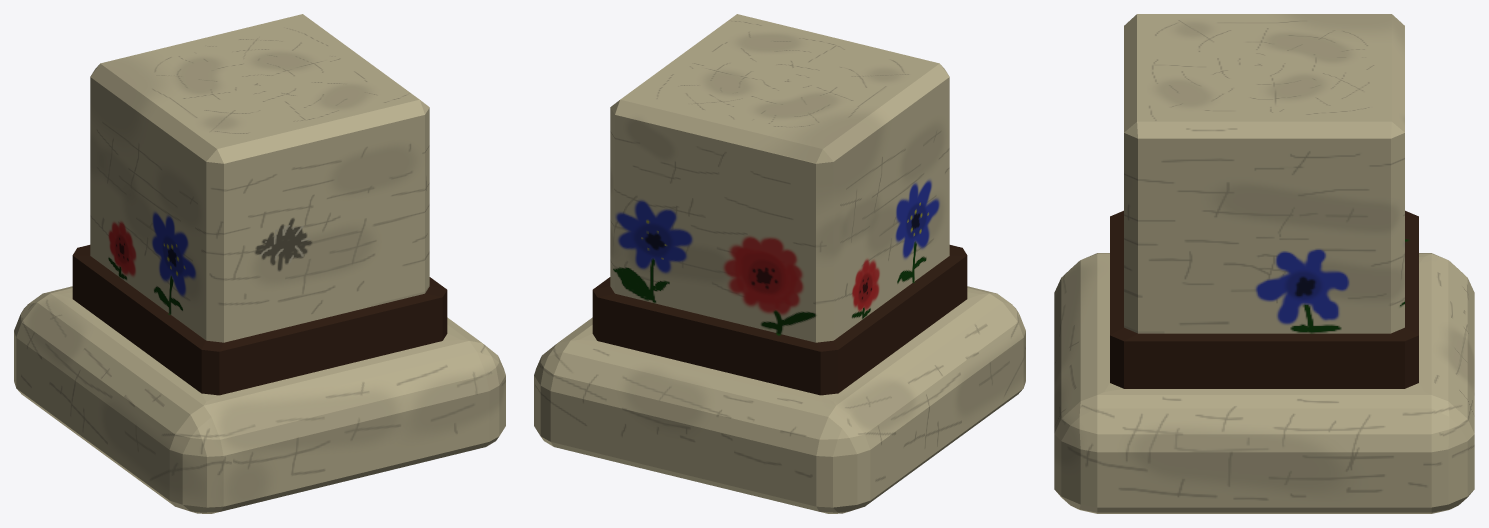
File: Hat.fbx
The picture shows the model from 3 angles, left to right: view 1: azimuth 30°, elevation 25°; view 2: azimuth 150°, elevation 25°; view 3: azimuth 270°, elevation 25°; orthographic projection. The views are drawn at different scales.
Visible parts, largest first — view 1: Hat; view 2: Hat; view 3: Hat.
Boxes of the visible parts, x1,y1,x2,y2 form: Hat: (14,14,505,513); Hat: (534,14,1025,513); Hat: (1054,14,1474,513).
Size of the model in its own units: 0.9969 by 0.973 by 0.9969.
